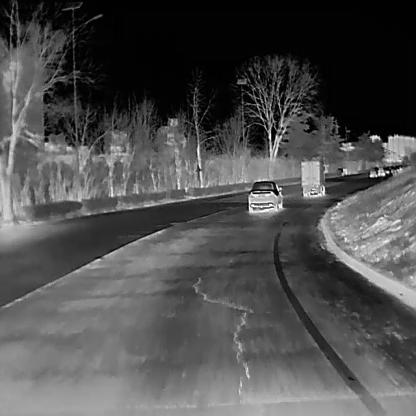car: (244, 179, 282, 211)
truck: (300, 158, 327, 196)
